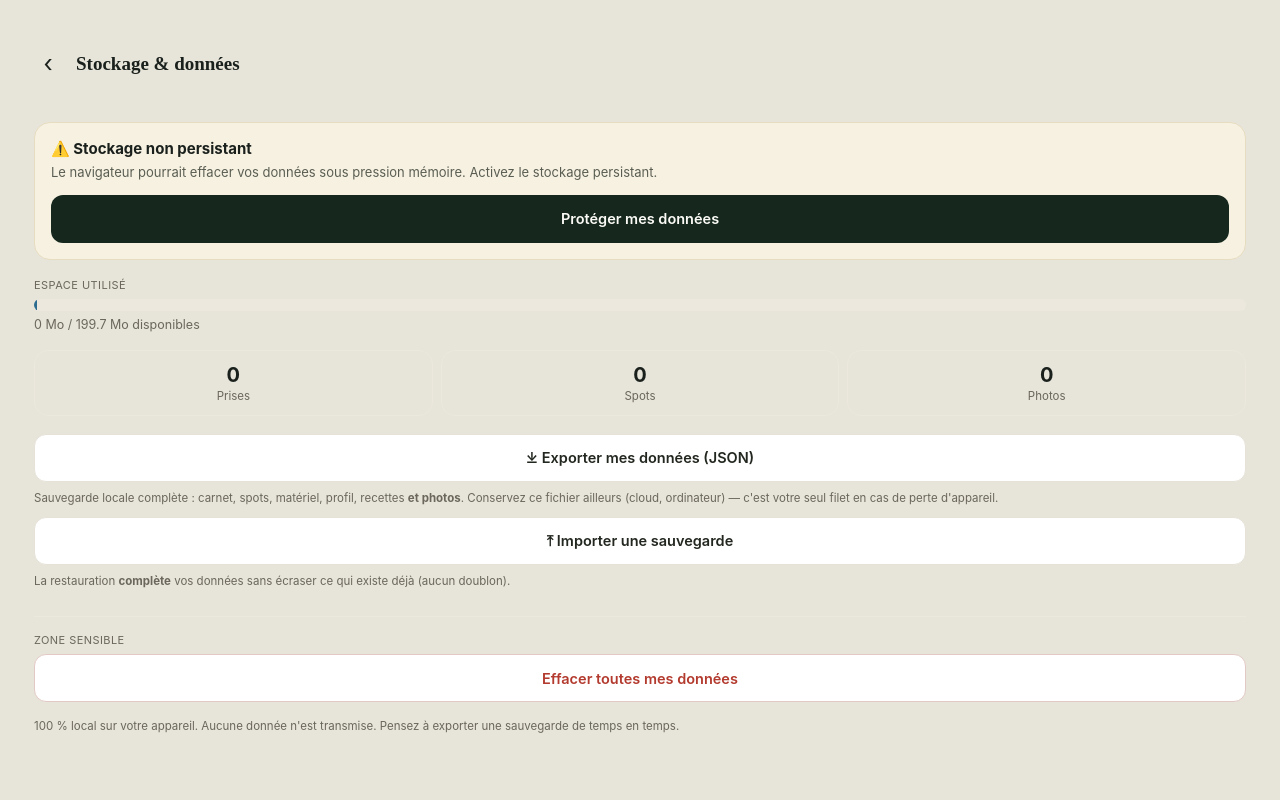
Test: Stockage — export amputé › annonce le succès, et rien d'autre, quand l'export a tout emporté
Click the button "⤓ Exporter mes données (JSON)".
click(640, 458)  # box [34, 434, 1246, 482]
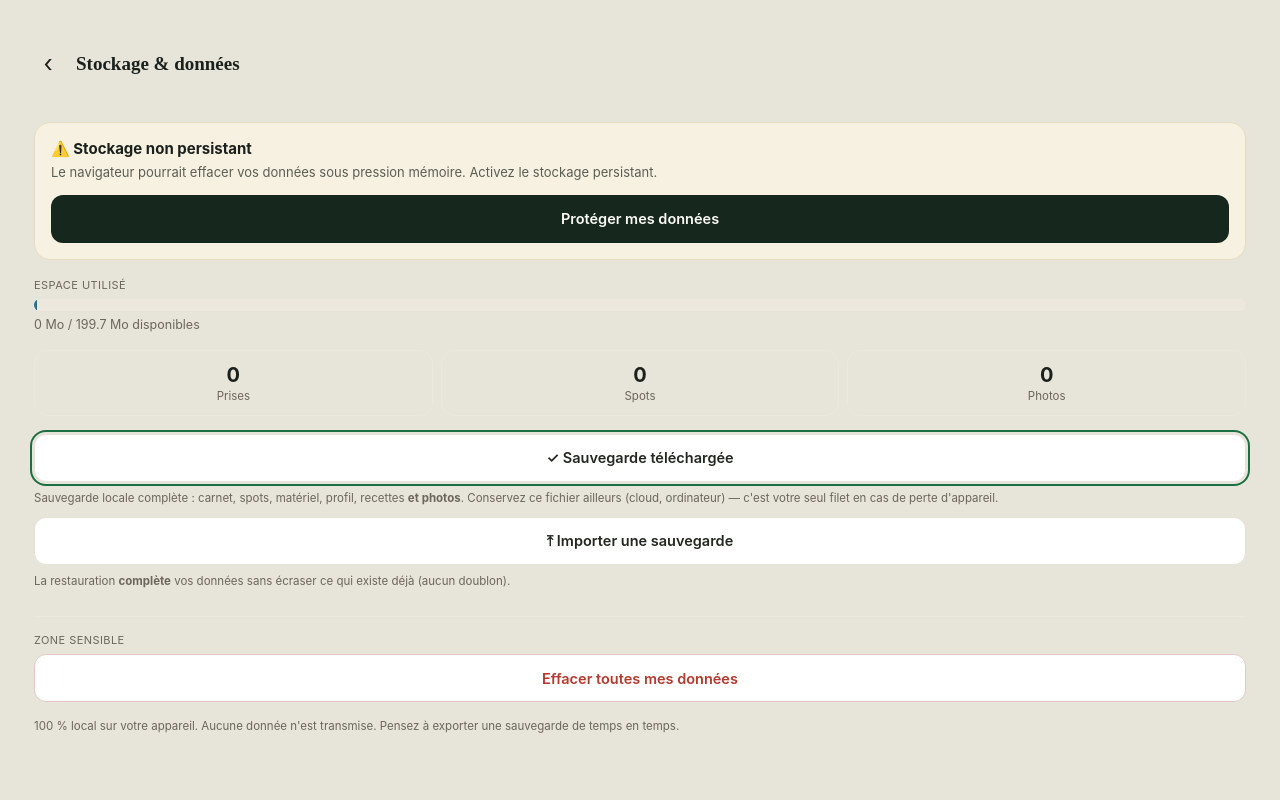
Now the button "✓ Sauvegarde téléchargée" is shown, box [34, 434, 1246, 482]
